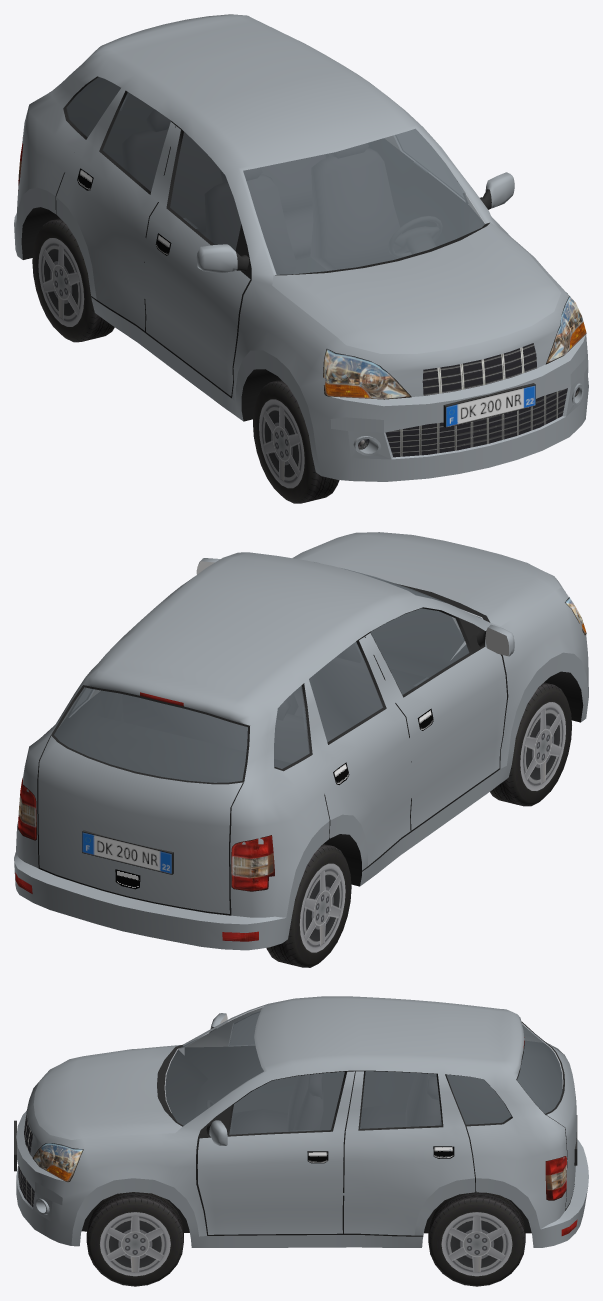
Rendered from sweethome3d-scopia-suv-444.glb.
The picture shows the model from 3 angles, top to bottom: view 1: azimuth 30°, elevation 25°; view 2: azimuth 150°, elevation 25°; view 3: azimuth 270°, elevation 25°; orthographic projection. The views are drawn at different scales.
Visible parts, largest first — view 1: Car_mesh.190, InteriorCar_mesh.001, Seating_Cube.005, wheels_Cylinder, LicensePlate_Cube.003, Rearview_Plane.002, SteeringWheel_Torus, Lines_mesh.002, Cylinder_Cylinder.002; view 2: Car_mesh.190, InteriorCar_mesh.001, wheels_Cylinder, Seating_Cube.005, LicensePlate_Cube.003, Lines_mesh.002, Handles_mesh.003, sweethome3d_window_mirror_Plane.003; view 3: Car_mesh.190, InteriorCar_mesh.001, wheels_Cylinder, Seating_Cube.005, Lines_mesh.002, Rearview_Plane.002, Handles_mesh.003.
Part boxes in pixels (<box>): Car_mesh.190: <box>14,14,588,481</box>; InteriorCar_mesh.001: <box>66,77,484,274</box>; Seating_Cube.005: <box>122,110,401,274</box>; wheels_Cylinder: <box>32,218,339,503</box>; LicensePlate_Cube.003: <box>443,383,535,427</box>; Rearview_Plane.002: <box>196,172,514,273</box>; SteeringWheel_Torus: <box>388,216,442,257</box>; Lines_mesh.002: <box>55,121,251,398</box>; Cylinder_Cylinder.002: <box>353,383,583,455</box>; Car_mesh.190: <box>14,532,588,950</box>; InteriorCar_mesh.001: <box>54,576,481,782</box>; wheels_Cylinder: <box>266,682,571,967</box>; Seating_Cube.005: <box>122,642,382,762</box>; LicensePlate_Cube.003: <box>82,830,173,874</box>; Lines_mesh.002: <box>37,632,508,915</box>; Handles_mesh.003: <box>115,708,433,889</box>; sweethome3d_window_mirror_Plane.003: <box>196,561,508,656</box>; Car_mesh.190: <box>16,996,588,1247</box>; InteriorCar_mesh.001: <box>165,1007,562,1134</box>; wheels_Cylinder: <box>86,1192,525,1286</box>; Seating_Cube.005: <box>232,1073,440,1134</box>; Lines_mesh.002: <box>196,1047,574,1236</box>; Rearview_Plane.002: <box>206,1013,227,1145</box>; Handles_mesh.003: <box>307,1146,454,1163</box>.
Size of the model in its own units: 209 by 176 by 427.
Materials: 28 (8 with a texture image).
